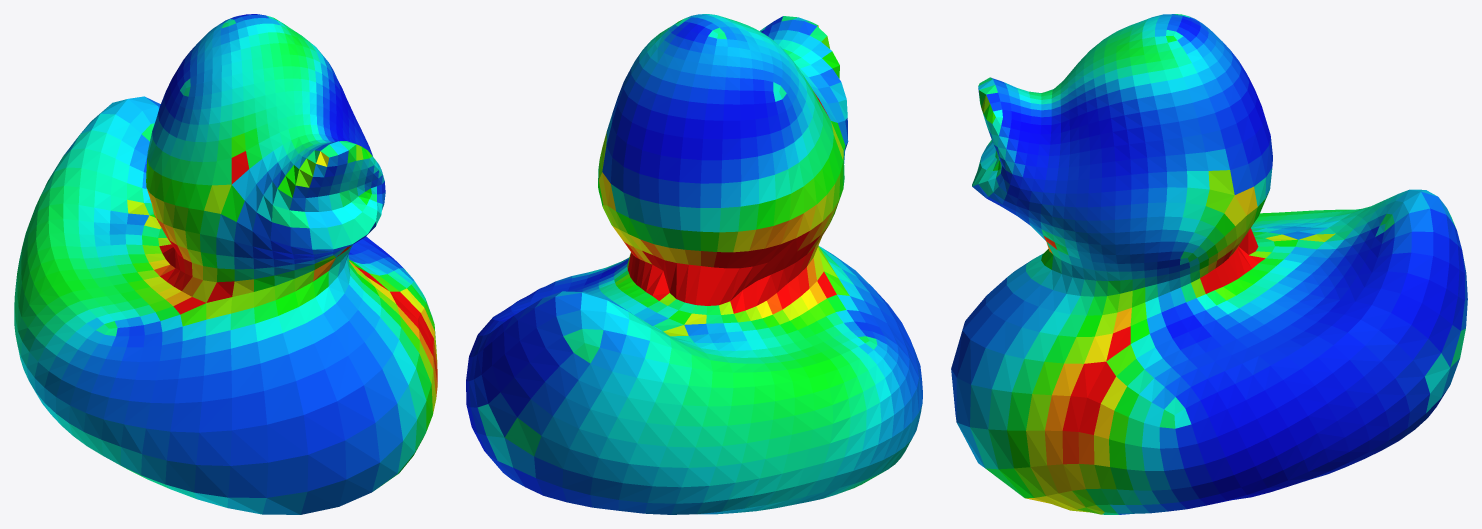
Rendered from duck_quad1_no_opt_quality.obj.
The picture shows the model from 3 angles, left to right: view 1: azimuth 30°, elevation 25°; view 2: azimuth 150°, elevation 25°; view 3: azimuth 270°, elevation 25°; orthographic projection. The views are drawn at different scales.
Size of the model in its own units: 70.45 by 79.09 by 82.53.
